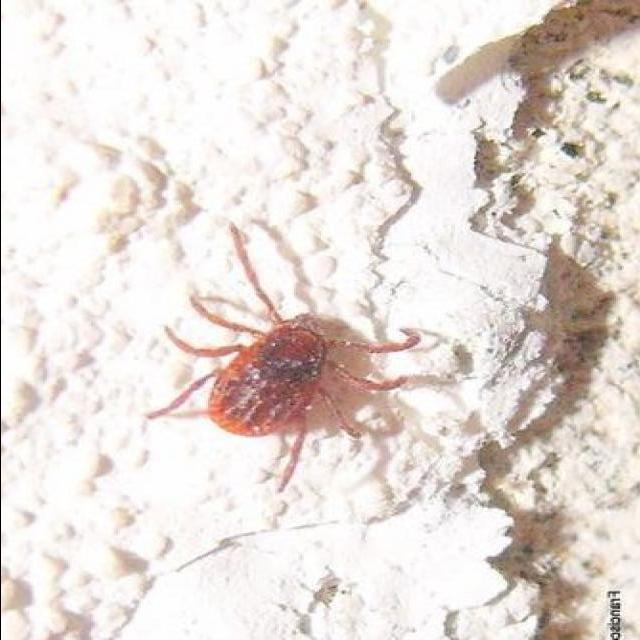Rhipicephalus Sanguineus-F: (146, 222, 446, 494)
